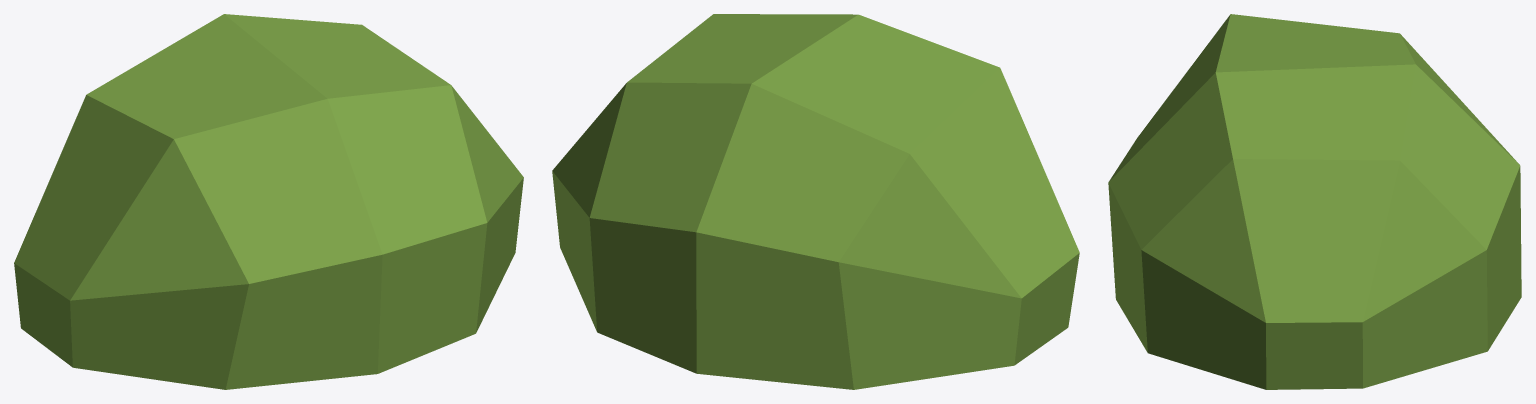
Rendered from TB_Env_Bush_Big_B.FBX.
3 views of the same model, side by side, from view 1: azimuth 30°, elevation 25°; view 2: azimuth 150°, elevation 25°; view 3: azimuth 270°, elevation 25° (orthographic). The views are drawn at different scales.
Parts seen in each view (by area): view 1: TB_Env_Bush_Big_B; view 2: TB_Env_Bush_Big_B; view 3: TB_Env_Bush_Big_B.
Part boxes in pixels (x1,y1,x2,y2): TB_Env_Bush_Big_B: [14, 14, 523, 389]; TB_Env_Bush_Big_B: [552, 14, 1079, 389]; TB_Env_Bush_Big_B: [1108, 14, 1521, 389].
Size of the model in its own units: 1.26 by 0.6442 by 1.02.
